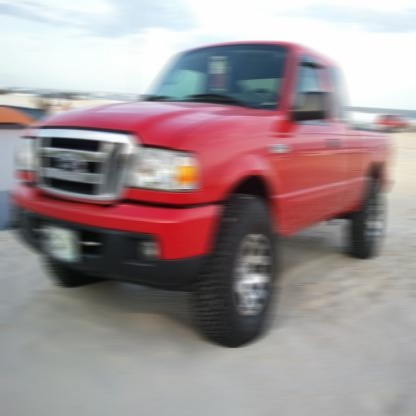Vehicle: (13, 41, 390, 347)
